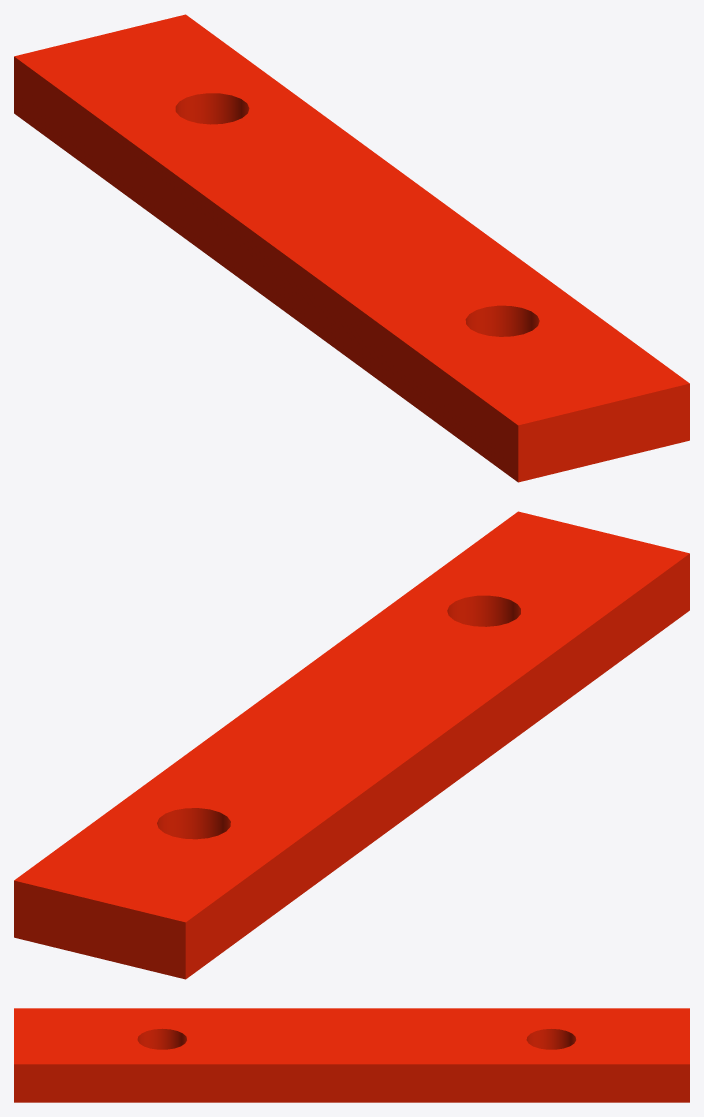
3 views of the same model, one above another, from view 1: azimuth 30°, elevation 25°; view 2: azimuth 150°, elevation 25°; view 3: azimuth 270°, elevation 25° (orthographic). The views are drawn at different scales.
Parts seen in each view (by area): view 1: si; view 2: si; view 3: si.
Part boxes in pixels (x1,y1,x2,y2): si: [14, 14, 689, 482]; si: [14, 511, 689, 979]; si: [14, 1008, 689, 1102].
Size of the model in its own units: 0.0945 by 0.03 by 0.4803.
